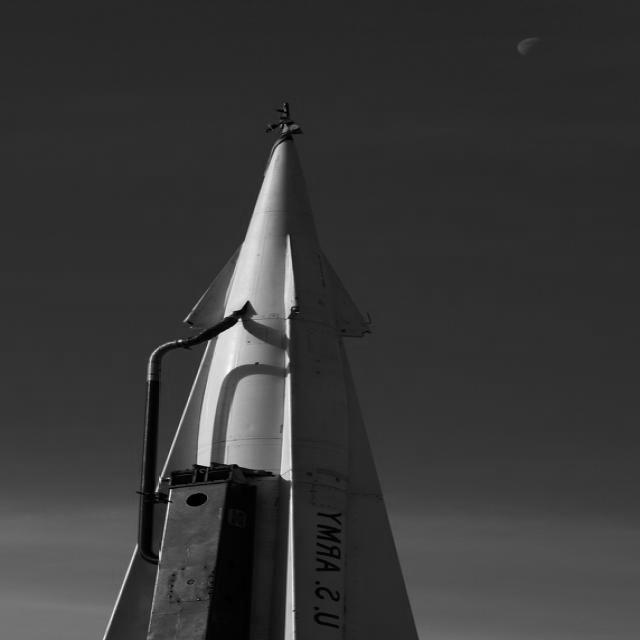missile: (108, 103, 428, 640)
